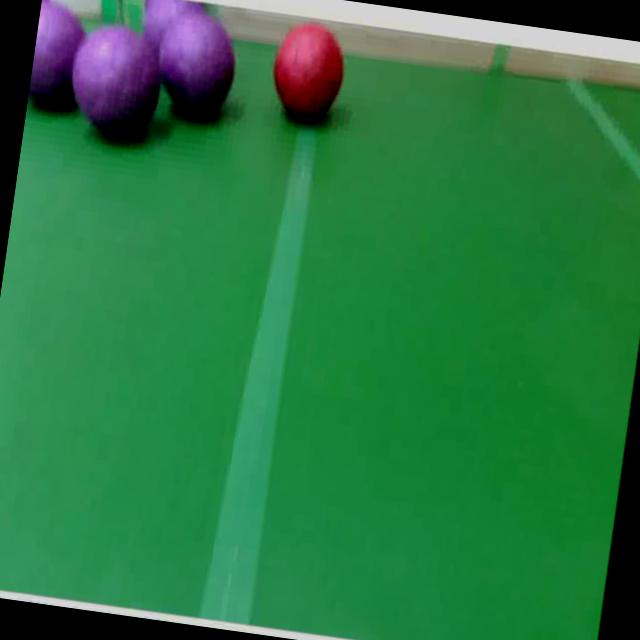purple_ball: (65, 22, 170, 140), (148, 12, 244, 122), (28, 0, 92, 110), (143, 0, 205, 50)
red_ball: (271, 24, 352, 130)
